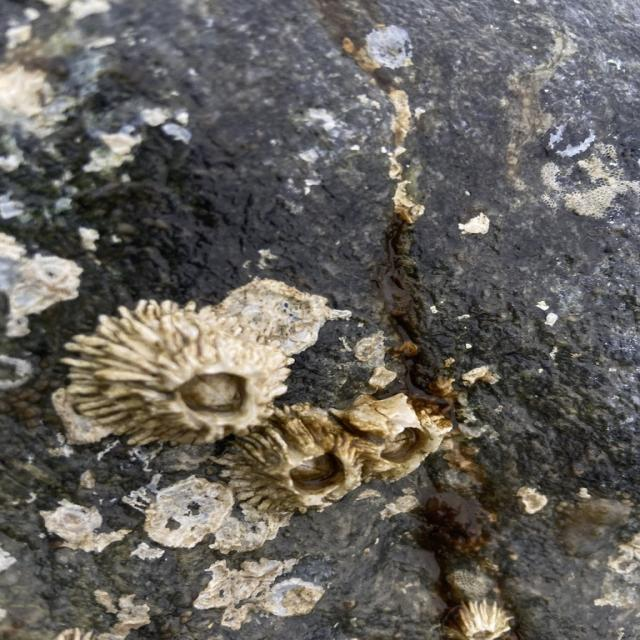barnacles: (81, 304, 287, 448), (237, 414, 364, 526), (356, 388, 451, 489)
